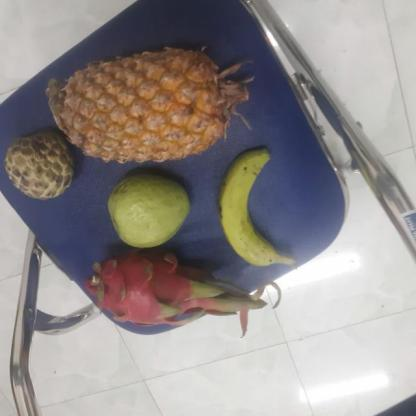annona: (5, 131, 80, 199)
banana: (218, 152, 290, 267)
guava: (107, 172, 193, 247)
pineapple: (57, 51, 252, 160)
pitaya: (93, 247, 206, 333)
